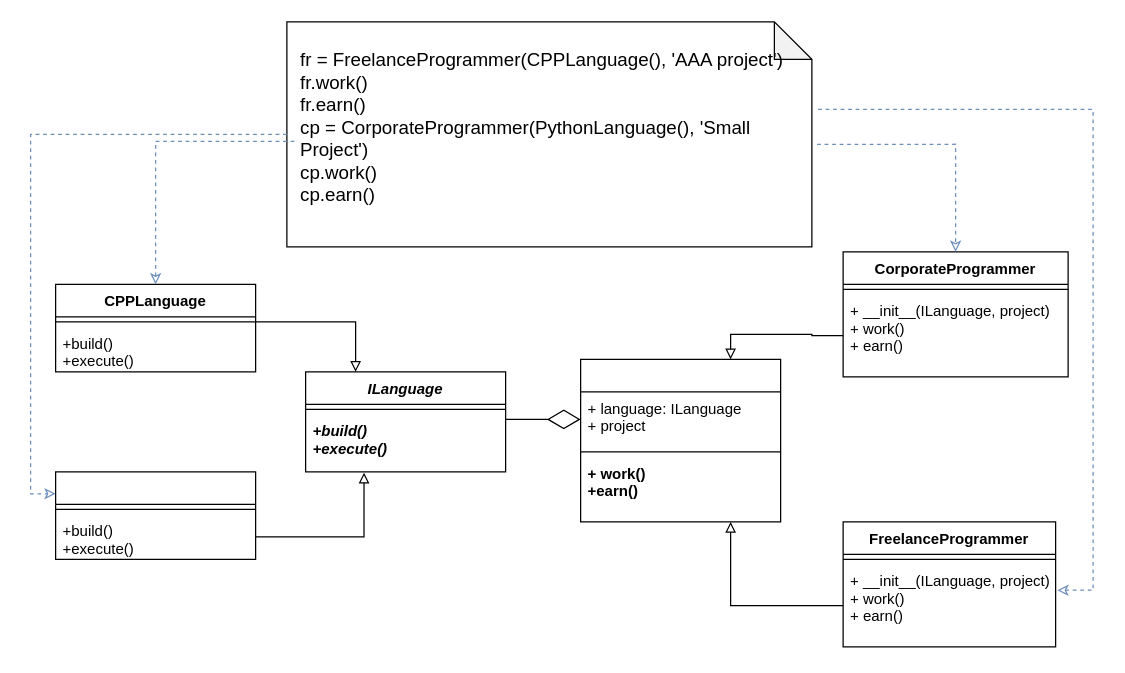
Image size: 1125x673. Some labels were removed from this diagram. Here are the shapes that lost their labels. From the top down, the box of each, then its label:
(579, 358, 781, 522): AbstractProgrammer
(54, 471, 256, 559): PythonLanguage
